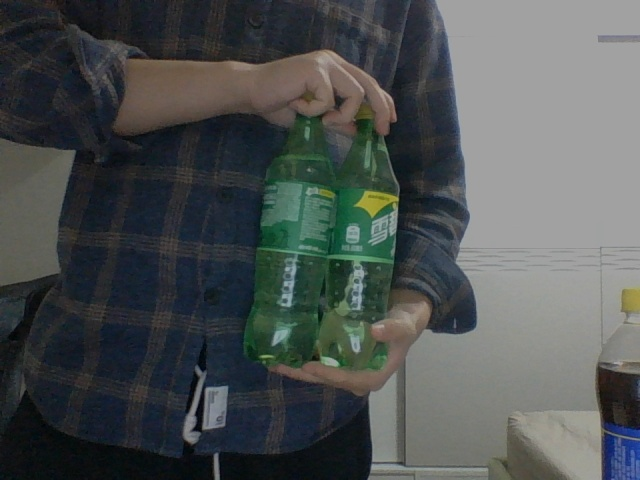Cola: (598, 287, 640, 476)
Sprite: (241, 107, 339, 367), (318, 107, 400, 368)
